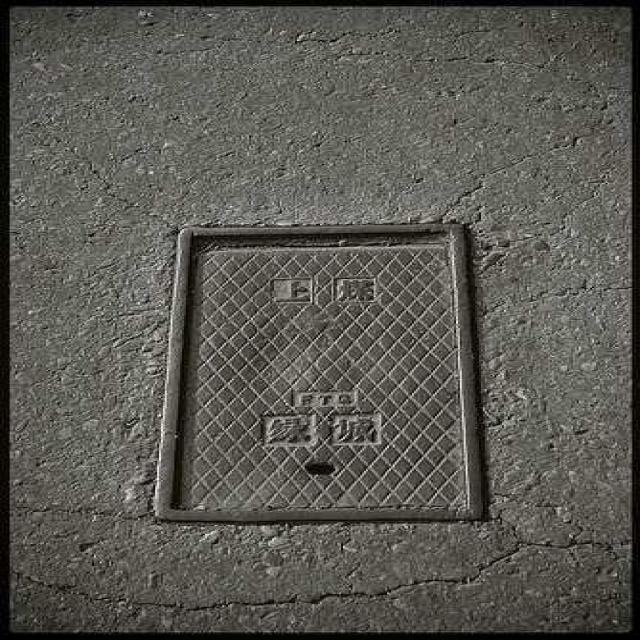manhole: (155, 225, 483, 521)
